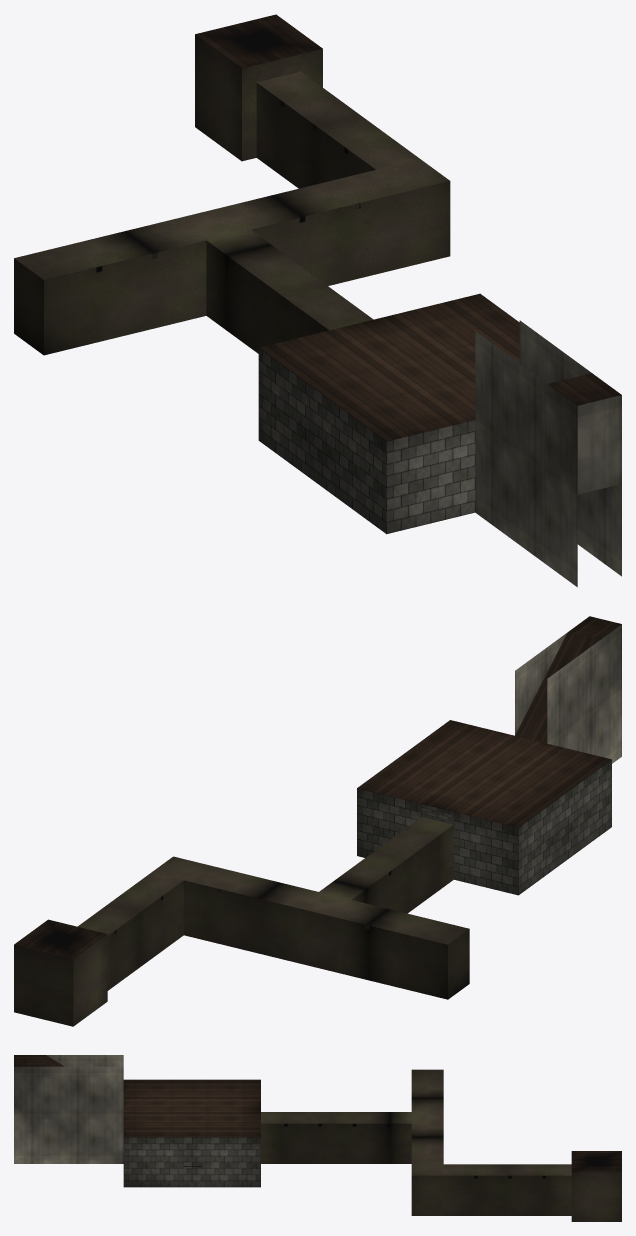
Rendered from passage.glb.
3 renders of one model, top to bottom at view 1: azimuth 30°, elevation 25°; view 2: azimuth 150°, elevation 25°; view 3: azimuth 270°, elevation 25°, orthographic. The views are drawn at different scales.
Visible parts, largest first — view 1: passage; view 2: passage; view 3: passage.
Part boxes in pixels (box(x1,y1,x2,y2)): passage: box(14, 14, 621, 587); passage: box(14, 616, 621, 1026); passage: box(14, 1055, 621, 1221).
Bounding box in the file's own units: 11.6 × 4.7 × 26.6.
Materials: 13 (13 with a texture image).
